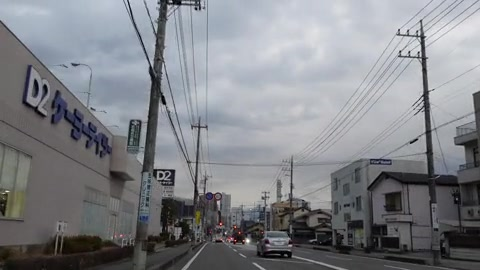traffic_sign: (204, 190, 213, 201), (213, 192, 223, 201)
